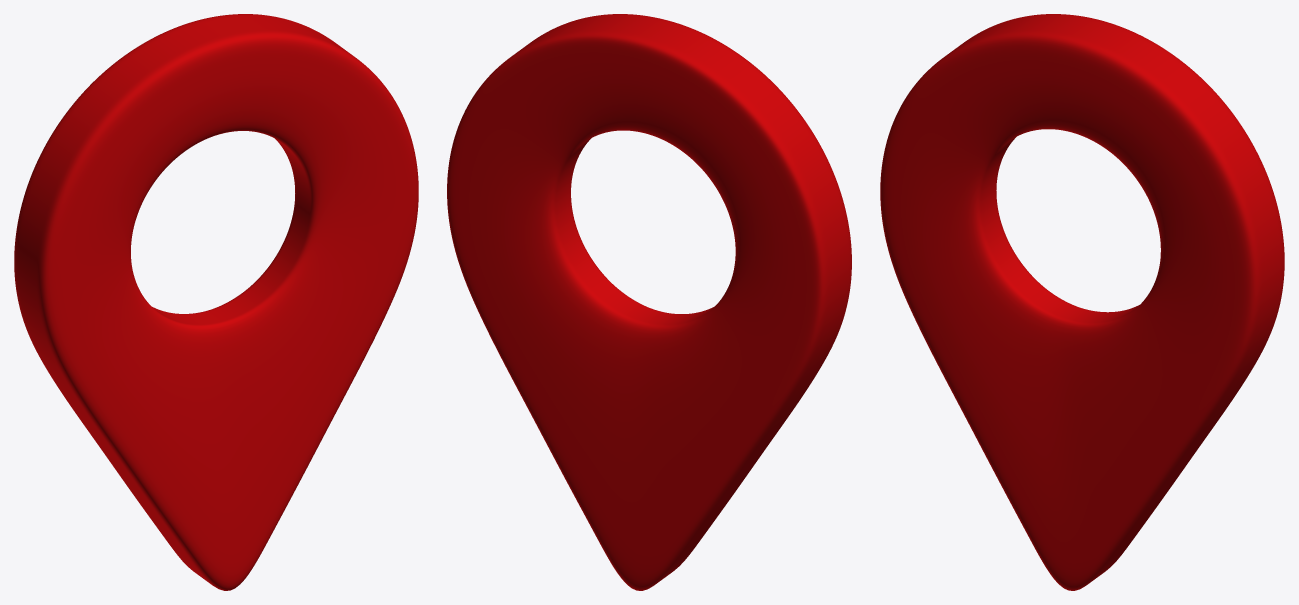
The model's file is loc 3 vertex color.obj.
3 renders of one model, left to right at view 1: azimuth 30°, elevation 25°; view 2: azimuth 150°, elevation 25°; view 3: azimuth 330°, elevation 25°, orthographic.
Parts seen in each view (by area): view 1: Circle.001_Material.001; view 2: Circle.001_Material.001; view 3: Circle.001_Material.001.
Boxes of the visible parts, bbox=[...] form: Circle.001_Material.001: bbox=[14, 14, 418, 590]; Circle.001_Material.001: bbox=[447, 14, 851, 590]; Circle.001_Material.001: bbox=[880, 14, 1284, 590].
Size of the model in its own units: 2.6 by 3.63 by 0.3956.
